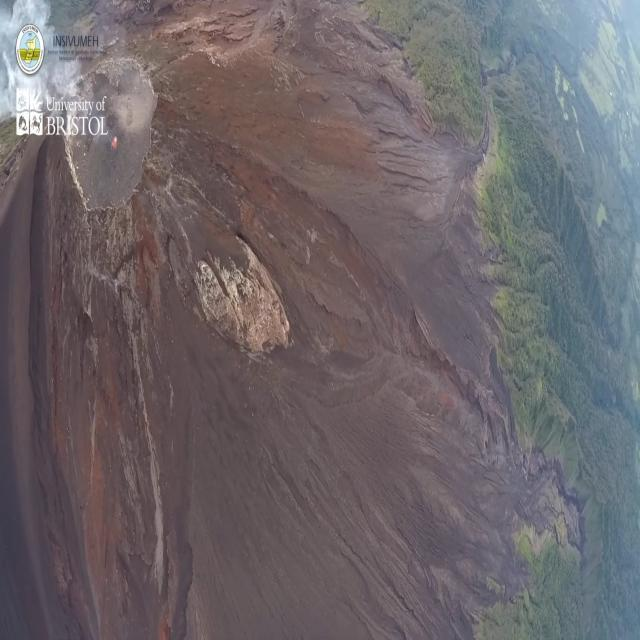Summit: (54, 50, 166, 229)
